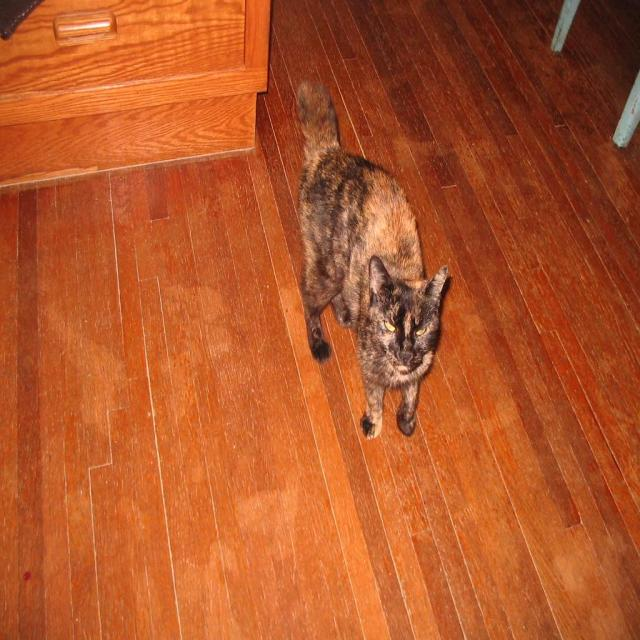manx_cat: (359, 244, 453, 384)
